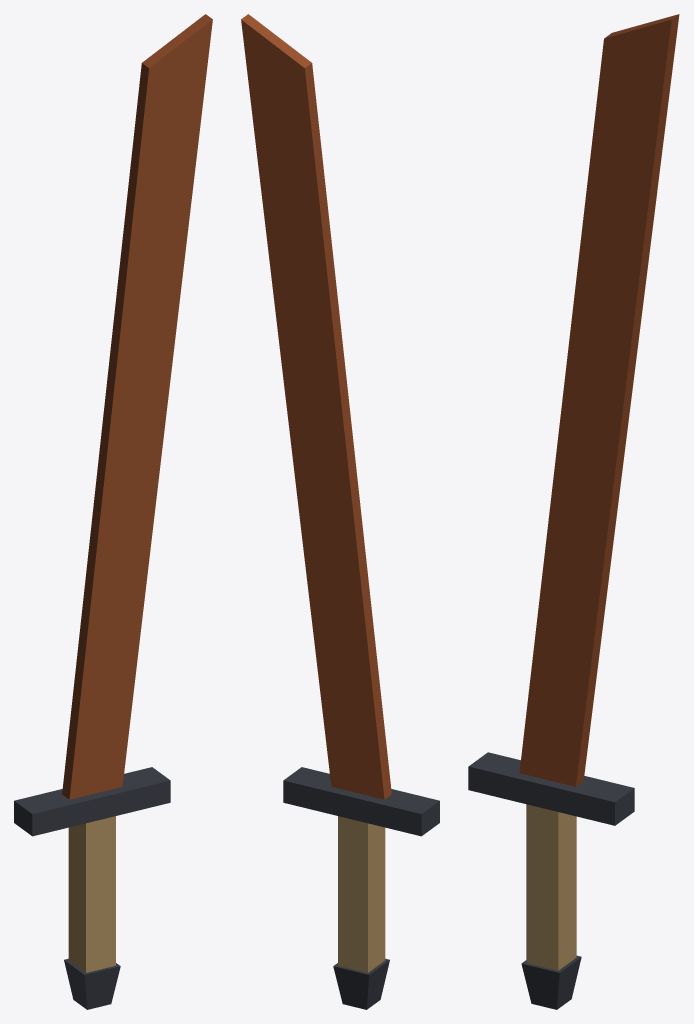
The model's file is SM_Prop_ScrapCutlass_LQ.glb.
3 renders of one model, left to right at view 1: azimuth 30°, elevation 25°; view 2: azimuth 150°, elevation 25°; view 3: azimuth 330°, elevation 25°, orthographic. The views are drawn at different scales.
Visible parts, largest first — view 1: SM_Prop_ScrapCutlass_LQ; view 2: SM_Prop_ScrapCutlass_LQ; view 3: SM_Prop_ScrapCutlass_LQ.
Part boxes in pixels (x1,y1,x2,y2): SM_Prop_ScrapCutlass_LQ: [14, 14, 212, 1009]; SM_Prop_ScrapCutlass_LQ: [241, 14, 439, 1009]; SM_Prop_ScrapCutlass_LQ: [468, 14, 679, 1009].
Bounding box in the file's own units: 0.175 × 0.86 × 0.0339.
Materials: 1 (1 with a texture image).
